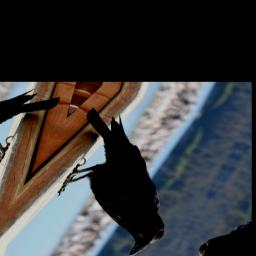Crow: (16, 106, 221, 256)
